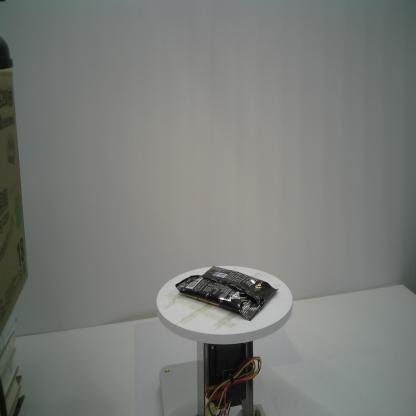Instant Drink: (175, 265, 279, 321)
